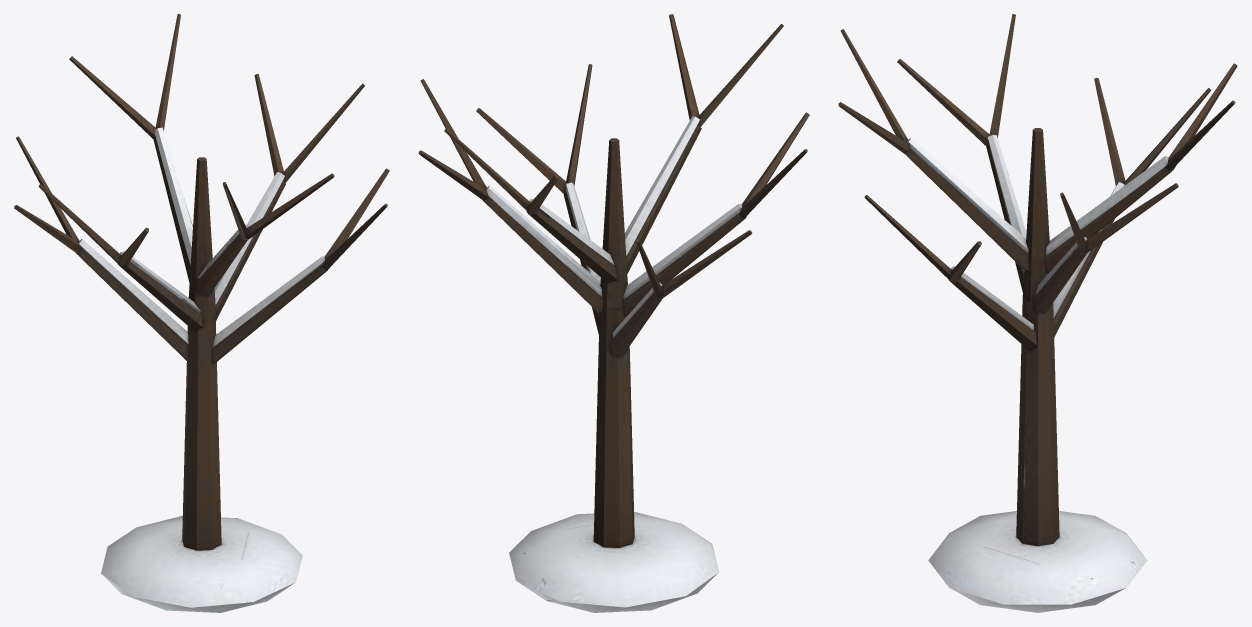
File: arbol_nieve.glb
The picture shows the model from 3 angles, left to right: view 1: azimuth 30°, elevation 25°; view 2: azimuth 150°, elevation 25°; view 3: azimuth 270°, elevation 25°; orthographic projection. The views are drawn at different scales.
Visible parts, largest first — view 1: arbol_nieve; view 2: arbol_nieve; view 3: arbol_nieve.
Part boxes in pixels (x1,y1,x2,y2): arbol_nieve: (14, 14, 389, 612); arbol_nieve: (418, 14, 809, 612); arbol_nieve: (838, 14, 1237, 612).
Size of the model in its own units: 4.21 by 5.66 by 3.93.
Materials: 1 (1 with a texture image).
